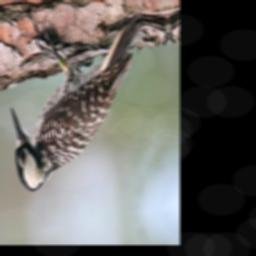Woodpecker: (5, 3, 153, 195)
